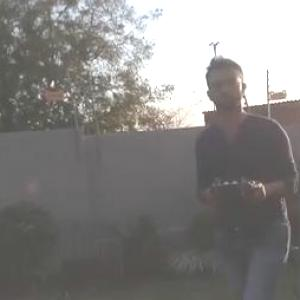follow: (192, 47, 300, 299)
